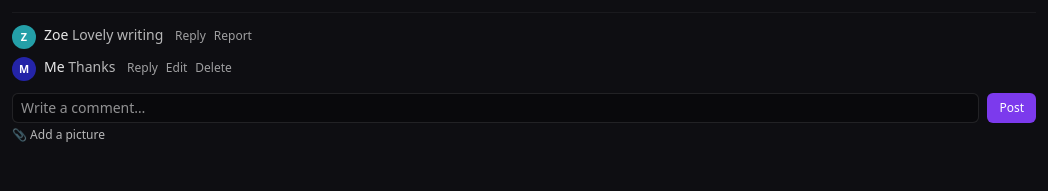
Scenario: BlogComments › adds a comment and tells the page the count went up
Expected: the text "Lovely writing" is shown, [72, 25, 163, 44]
Type "Great read" into the field with placeholder "Write a comment…".
click(496, 108); type("Great read")  # box [12, 93, 979, 123]
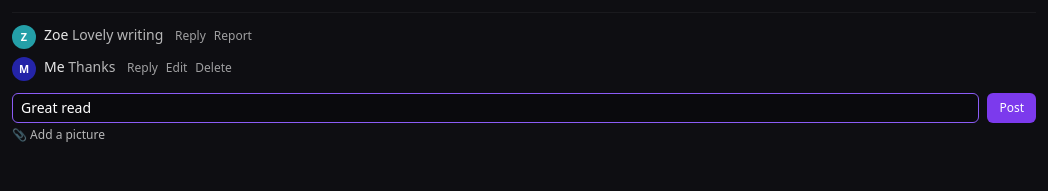
Click the button "Post".
click(1012, 108)  # box [987, 93, 1036, 123]
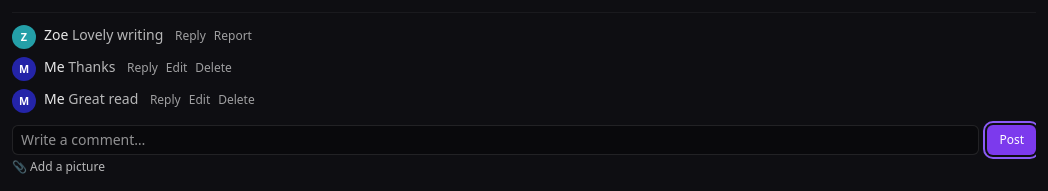
Result: the text "Great read" is shown at [68, 89, 138, 108]
